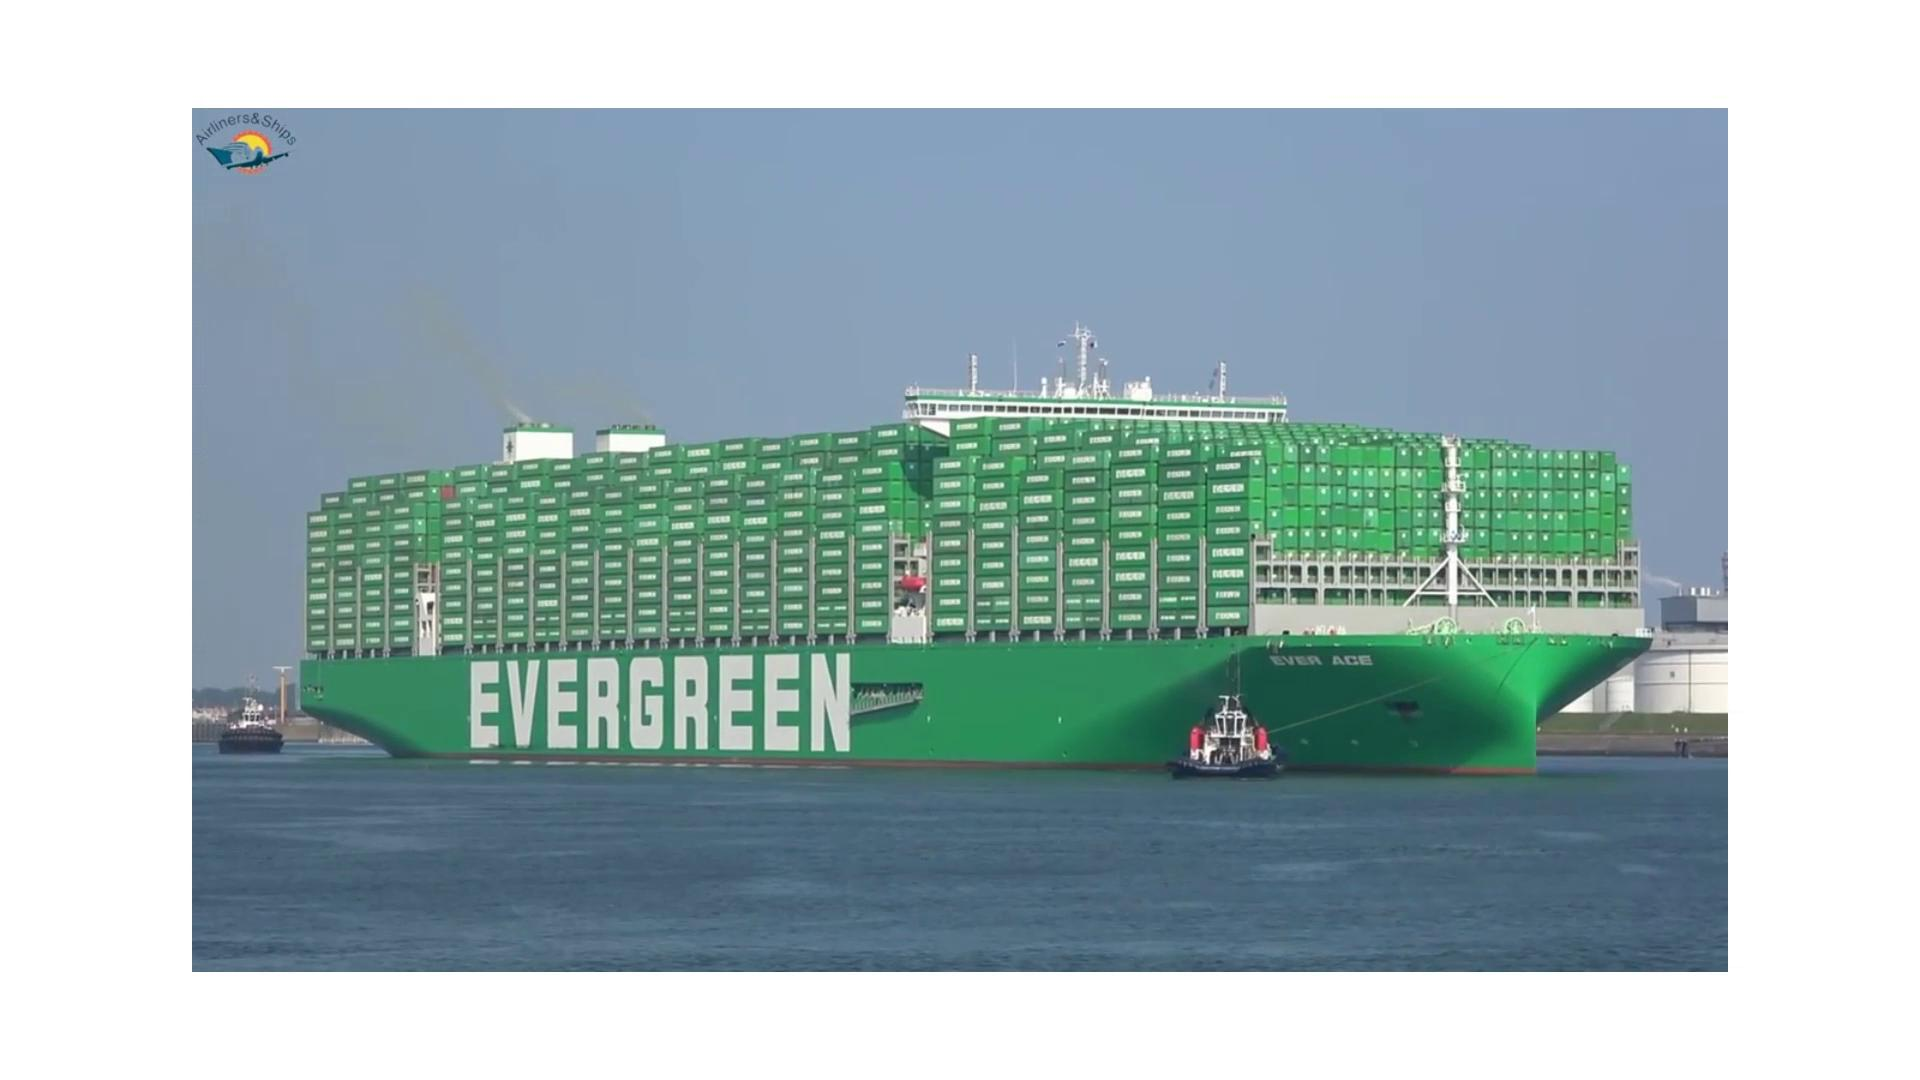OCR: (451, 637, 886, 774), (1242, 630, 1383, 683)
